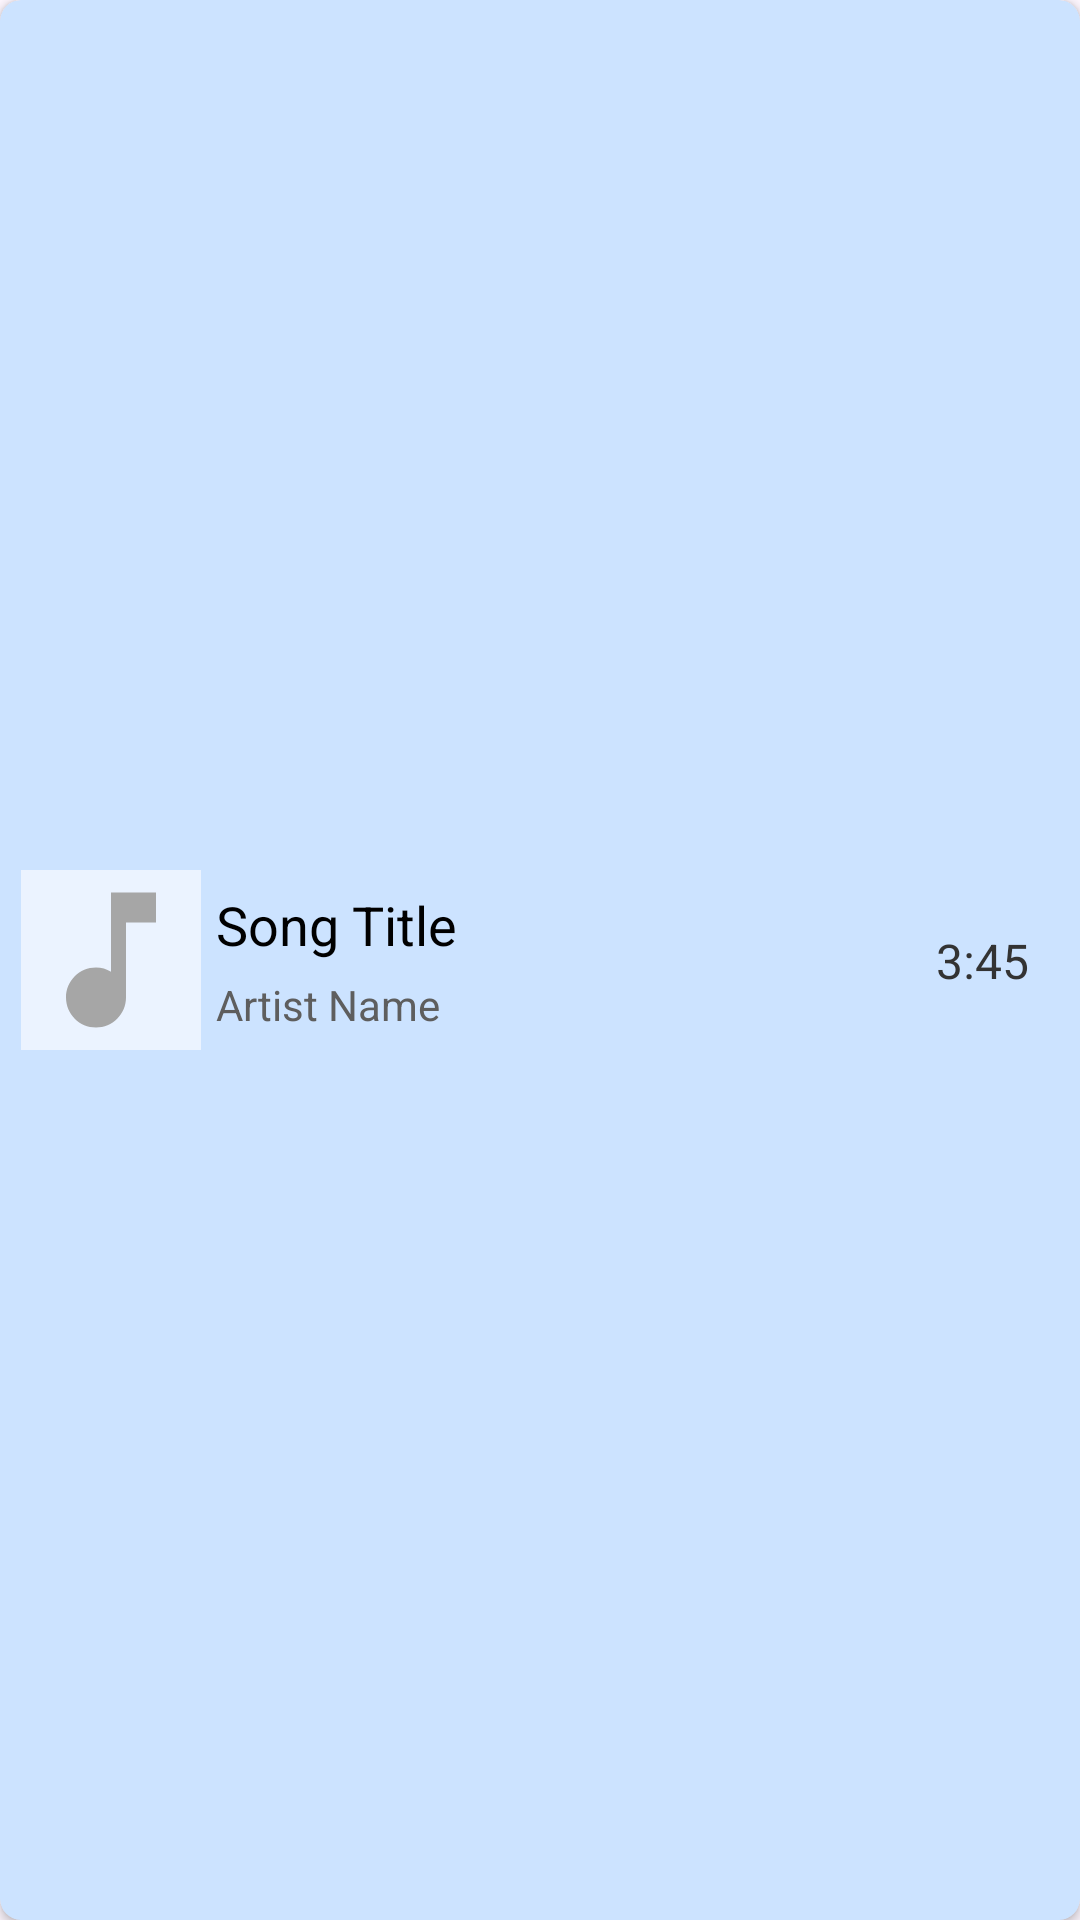

Where to tap for icons on this 1080*1920 app screen, as (x=x, y=y):
music note: (x=111, y=960)
